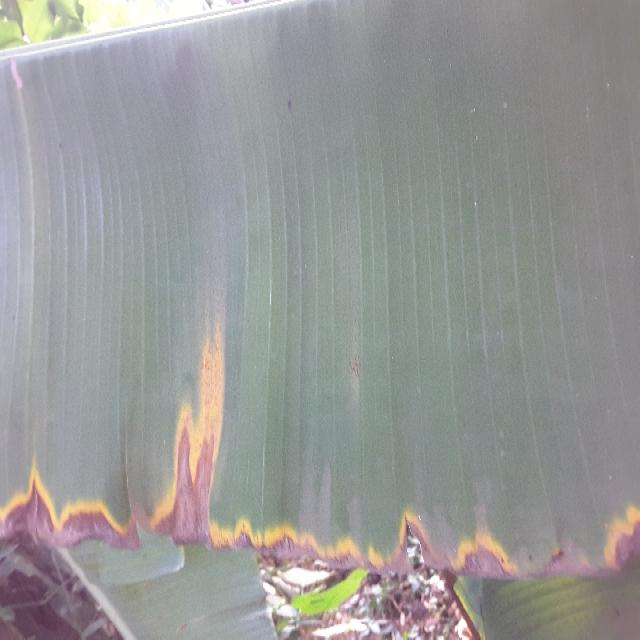Cordana: (2, 318, 640, 613)
